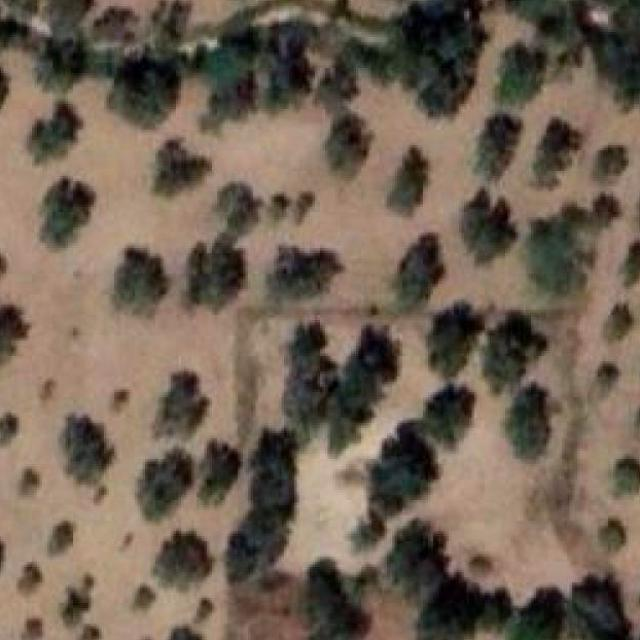Tree: (508, 0, 640, 105), (186, 11, 312, 116), (387, 0, 479, 111), (519, 200, 608, 302), (362, 428, 440, 512), (380, 521, 450, 605), (108, 50, 181, 128), (296, 562, 364, 640), (414, 582, 505, 640), (279, 328, 332, 424), (492, 371, 551, 454), (221, 503, 286, 578), (345, 323, 402, 408), (567, 570, 636, 640), (530, 104, 587, 188), (476, 310, 536, 387), (248, 423, 301, 510), (150, 529, 212, 601), (266, 246, 342, 304), (459, 194, 521, 264), (187, 236, 245, 310), (422, 302, 477, 380), (63, 408, 117, 486), (417, 382, 476, 452), (386, 236, 440, 310), (136, 448, 191, 520), (112, 248, 168, 317), (40, 179, 96, 248), (469, 109, 521, 183), (188, 431, 243, 500), (505, 577, 565, 640), (153, 372, 209, 439), (28, 32, 83, 95), (25, 101, 80, 162), (316, 42, 366, 106), (152, 140, 209, 196), (325, 114, 372, 177), (386, 145, 428, 214), (344, 510, 397, 563), (318, 398, 373, 447), (501, 42, 543, 105), (215, 183, 260, 240), (0, 292, 34, 360), (87, 0, 137, 46), (0, 0, 39, 57), (50, 580, 96, 622), (590, 135, 628, 184), (598, 300, 639, 344), (42, 0, 91, 36), (605, 452, 640, 499), (584, 356, 622, 396), (599, 508, 629, 556), (46, 516, 80, 554), (163, 615, 212, 640), (105, 379, 132, 418), (0, 240, 20, 289), (467, 544, 497, 576), (291, 186, 317, 222), (264, 190, 289, 226), (0, 406, 22, 446), (75, 613, 106, 640), (18, 462, 44, 494), (16, 560, 39, 592), (0, 60, 12, 112), (0, 539, 14, 580)
